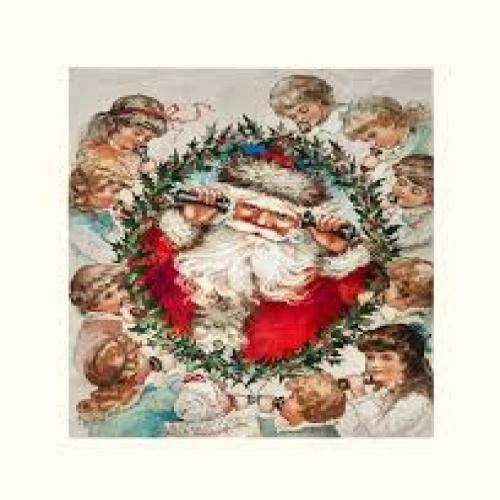Santa: (146, 150, 373, 362)
